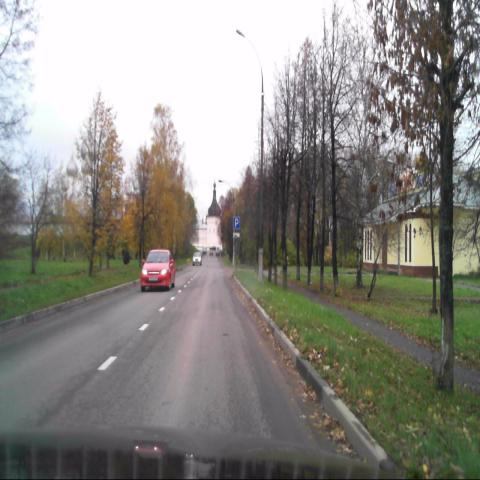6_4: (233, 217, 240, 228)
